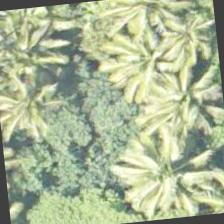Kelapa_Sawit: (114, 121, 213, 220), (98, 24, 196, 122), (141, 0, 221, 90), (98, 0, 194, 49)
